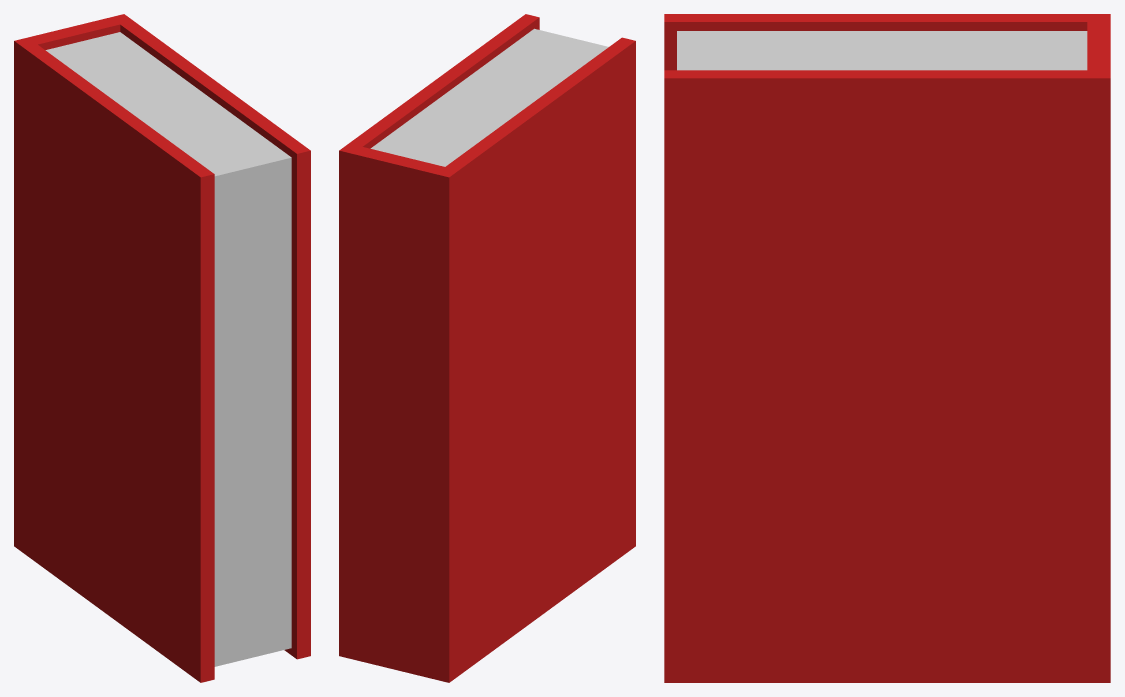
The model's file is book_3.fbx.
The picture shows the model from 3 angles, left to right: view 1: azimuth 30°, elevation 25°; view 2: azimuth 150°, elevation 25°; view 3: azimuth 270°, elevation 25°; orthographic projection. The views are drawn at different scales.
Parts seen in each view (by area): view 1: book_3; view 2: book_3; view 3: book_3.
Boxes of the visible parts, bbox=[...] form: book_3: bbox=[14, 14, 310, 682]; book_3: bbox=[339, 14, 635, 682]; book_3: bbox=[664, 14, 1110, 682].
Size of the model in its own units: 8.65 by 37.95 by 25.39.
